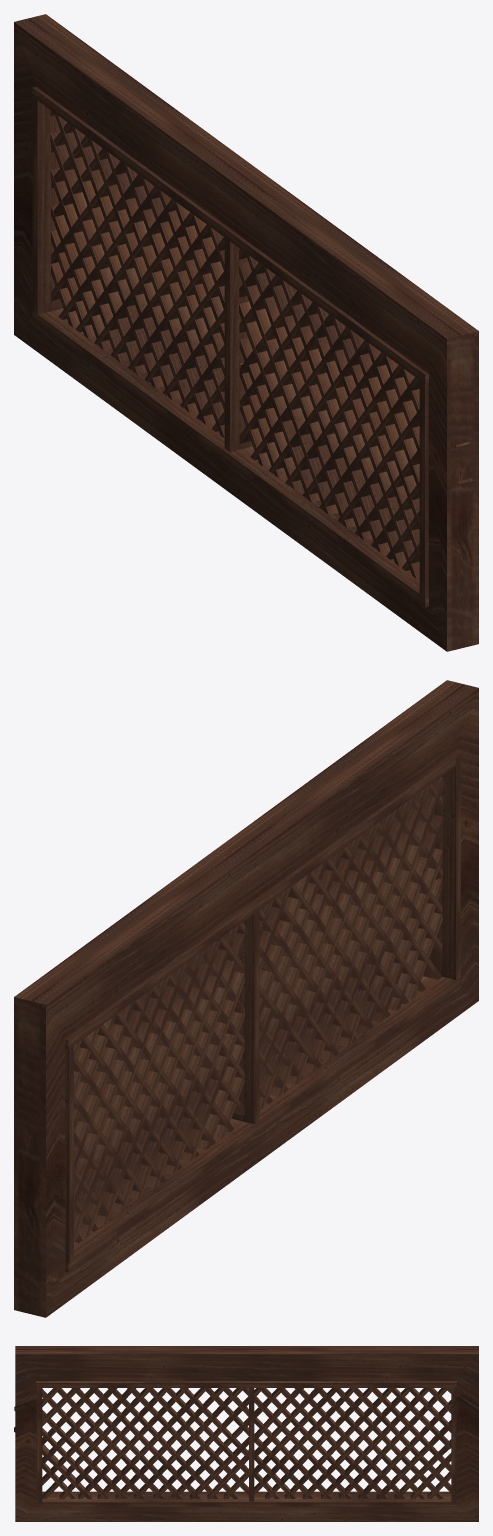
The model's file is SM_M_LatticeBig.fbx.
3 views of the same model, one above another, from view 1: azimuth 30°, elevation 25°; view 2: azimuth 150°, elevation 25°; view 3: azimuth 270°, elevation 25° (orthographic). The views are drawn at different scales.
Visible parts, largest first — view 1: SM_M_LatticeBig; view 2: SM_M_LatticeBig; view 3: SM_M_LatticeBig.
Boxes of the visible parts, box(x1,y1,x2,y2) form: SM_M_LatticeBig: box(14, 14, 478, 651); SM_M_LatticeBig: box(14, 680, 478, 1317); SM_M_LatticeBig: box(14, 1346, 478, 1521).
Bounding box in the file's own units: 21.92 × 406 × 161.
Materials: 1 (1 with a texture image).
